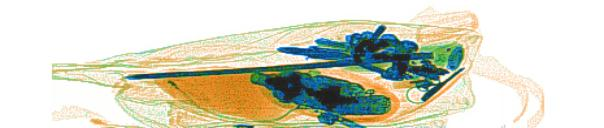battery: (329, 93, 390, 117)
